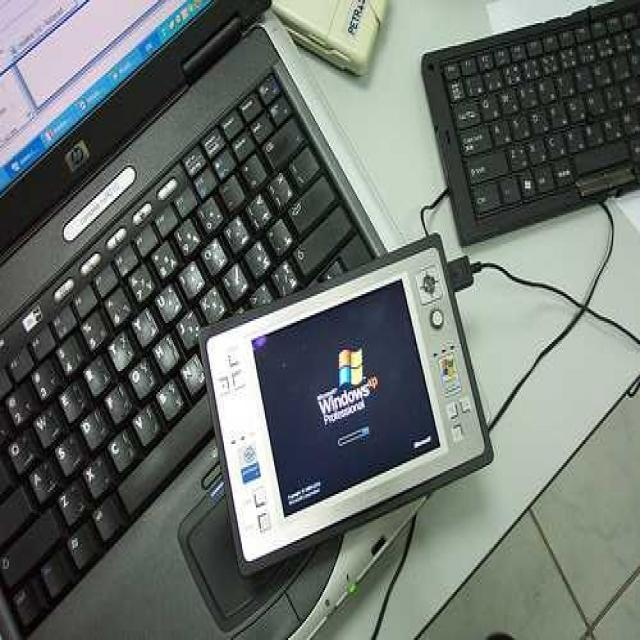laptop: (0, 0, 402, 640)
